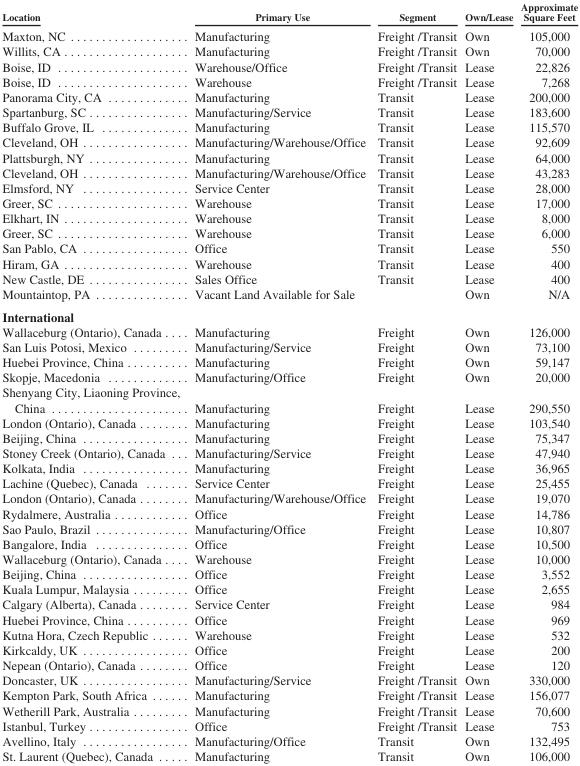table: (1, 0, 577, 762)
table column: (1, 0, 186, 762), (186, 0, 371, 762), (371, 0, 460, 762), (516, 0, 577, 762), (460, 0, 516, 762)
table column header: (1, 0, 577, 25)
table projected row header: (1, 304, 577, 323)
table row: (1, 384, 577, 414), (1, 0, 577, 25), (1, 285, 577, 304), (1, 304, 577, 323), (1, 25, 577, 43), (1, 73, 577, 89), (1, 179, 577, 195), (1, 323, 577, 339), (1, 429, 577, 445), (1, 535, 577, 551), (1, 626, 577, 642), (1, 732, 577, 748), (1, 43, 577, 58), (1, 58, 577, 73), (1, 89, 577, 104), (1, 104, 577, 119), (1, 119, 577, 134), (1, 134, 577, 149), (1, 149, 577, 164), (1, 164, 577, 179), (1, 195, 577, 210), (1, 210, 577, 225), (1, 225, 577, 240), (1, 240, 577, 255), (1, 255, 577, 270), (1, 270, 577, 285), (1, 339, 577, 354), (1, 354, 577, 369), (1, 369, 577, 384), (1, 414, 577, 429), (1, 445, 577, 460), (1, 460, 577, 475), (1, 475, 577, 490), (1, 490, 577, 505), (1, 505, 577, 520), (1, 520, 577, 535), (1, 551, 577, 566), (1, 566, 577, 581), (1, 581, 577, 596), (1, 596, 577, 611), (1, 611, 577, 626), (1, 642, 577, 657), (1, 657, 577, 672), (1, 672, 577, 687), (1, 687, 577, 702), (1, 702, 577, 717), (1, 717, 577, 732), (1, 748, 577, 762)
